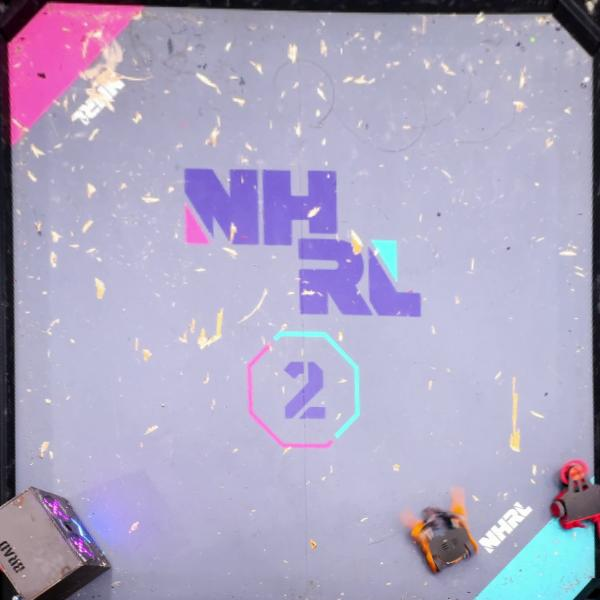housebot: (0, 485, 114, 600)
robot: (402, 488, 478, 573), (552, 458, 600, 531)
